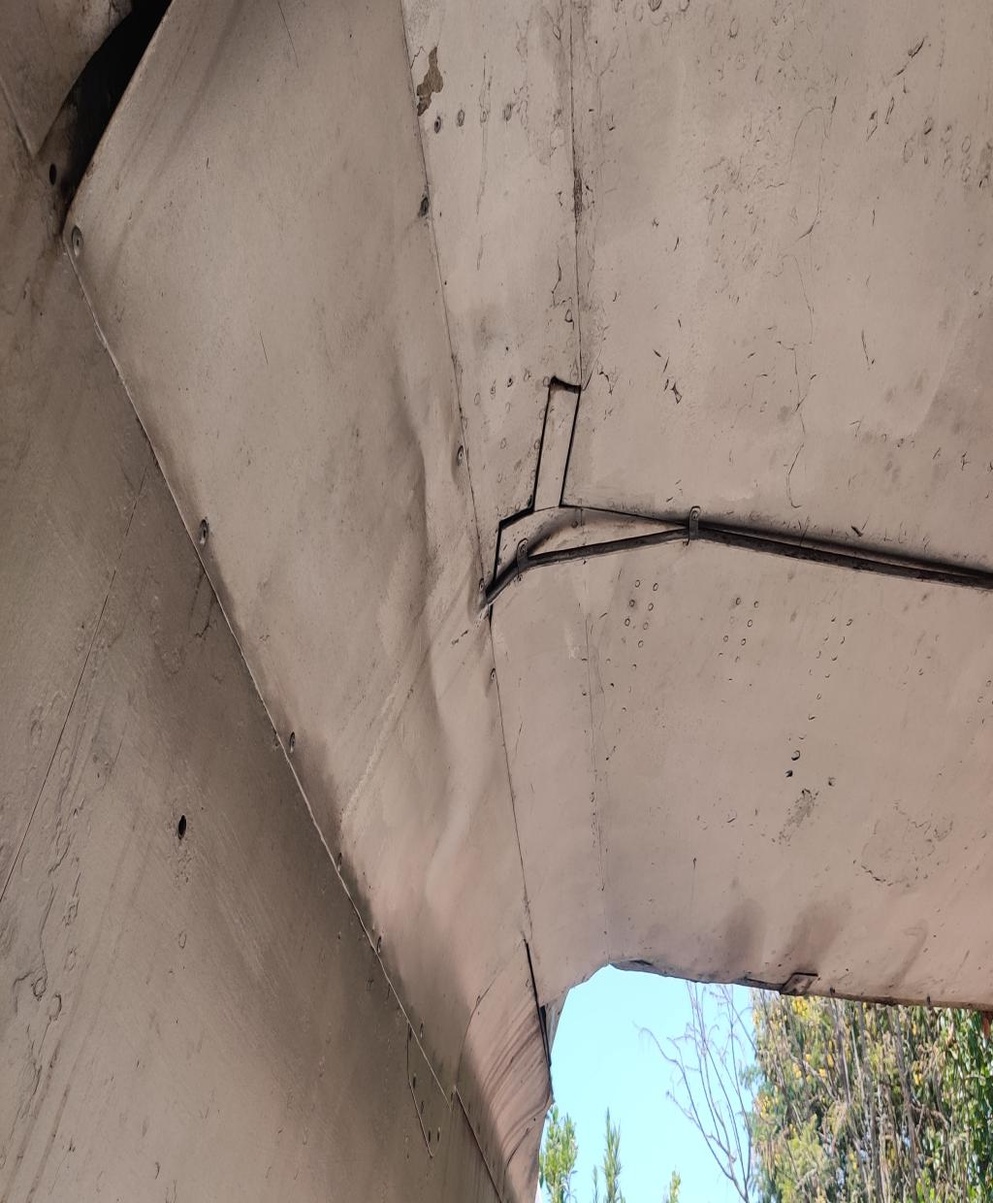corrosion: (413, 33, 444, 125)
dent: (394, 629, 496, 894), (371, 356, 449, 576)
